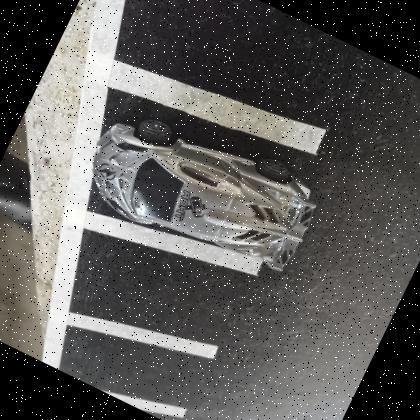Car: (92, 120, 316, 270)
